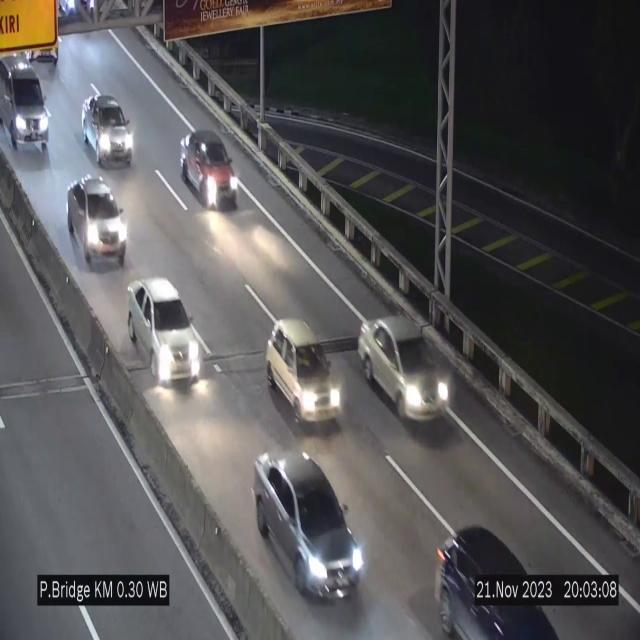Car: (248, 444, 368, 598), (431, 508, 559, 640), (359, 315, 453, 429), (265, 317, 347, 434), (127, 278, 200, 384), (0, 52, 54, 158), (67, 175, 127, 269), (180, 130, 238, 210), (82, 94, 134, 166)
